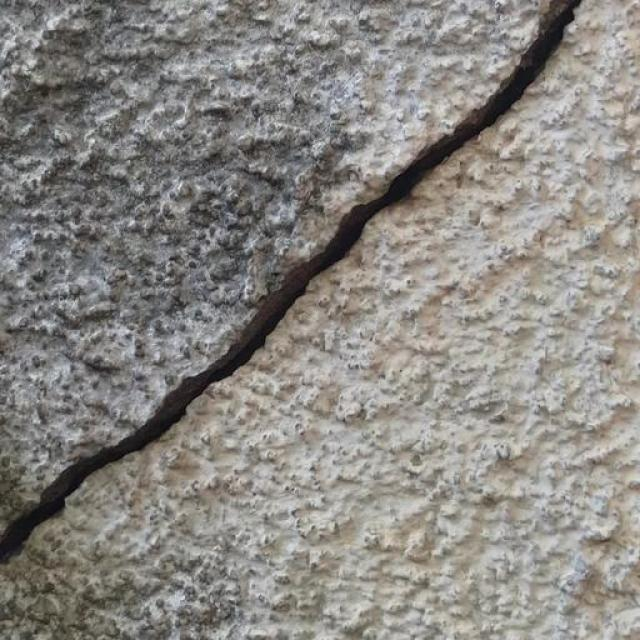crack: (28, 24, 598, 558)
crack_mold_damp_spalling_cor: (28, 24, 598, 558)
